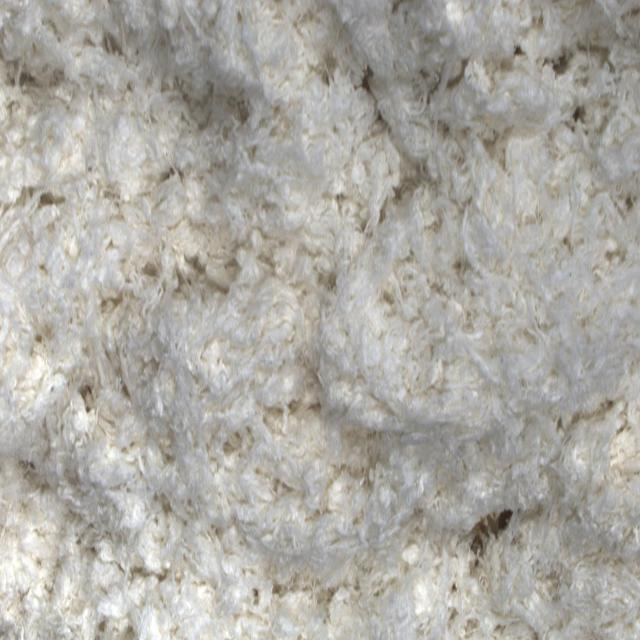dust: (468, 505, 517, 589)
